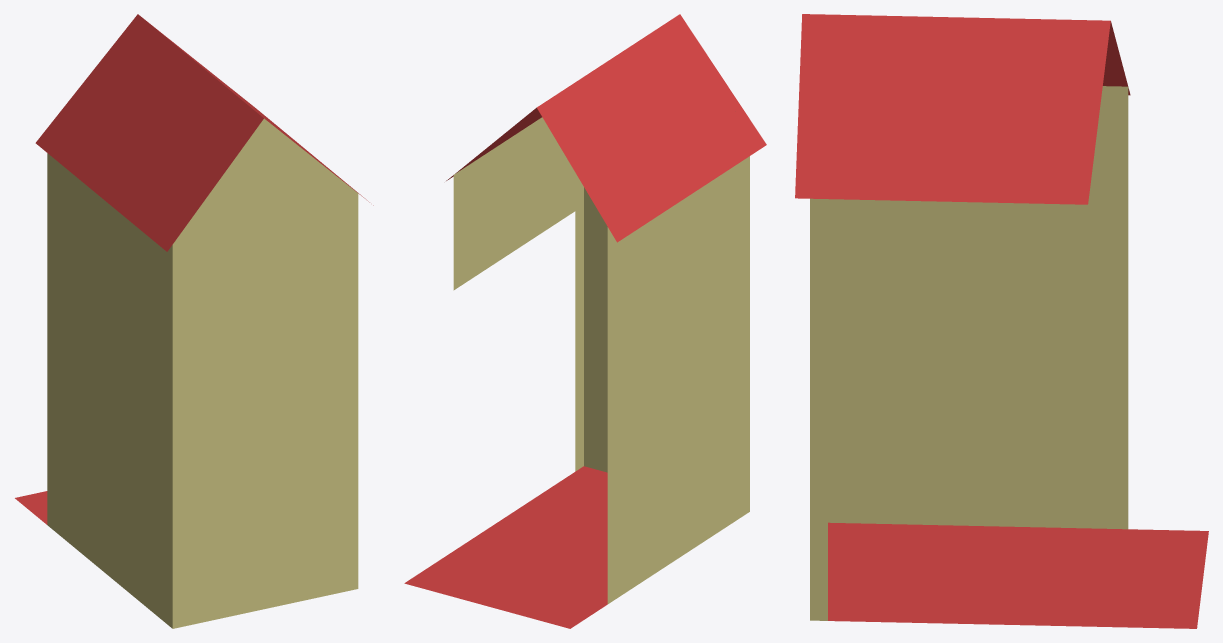
The picture shows the model from 3 angles, left to right: view 1: azimuth 30°, elevation 25°; view 2: azimuth 150°, elevation 25°; view 3: azimuth 270°, elevation 25°; orthographic projection. The views are drawn at different scales.
Size of the model in its own units: 4.83 by 7.27 by 10.73.
